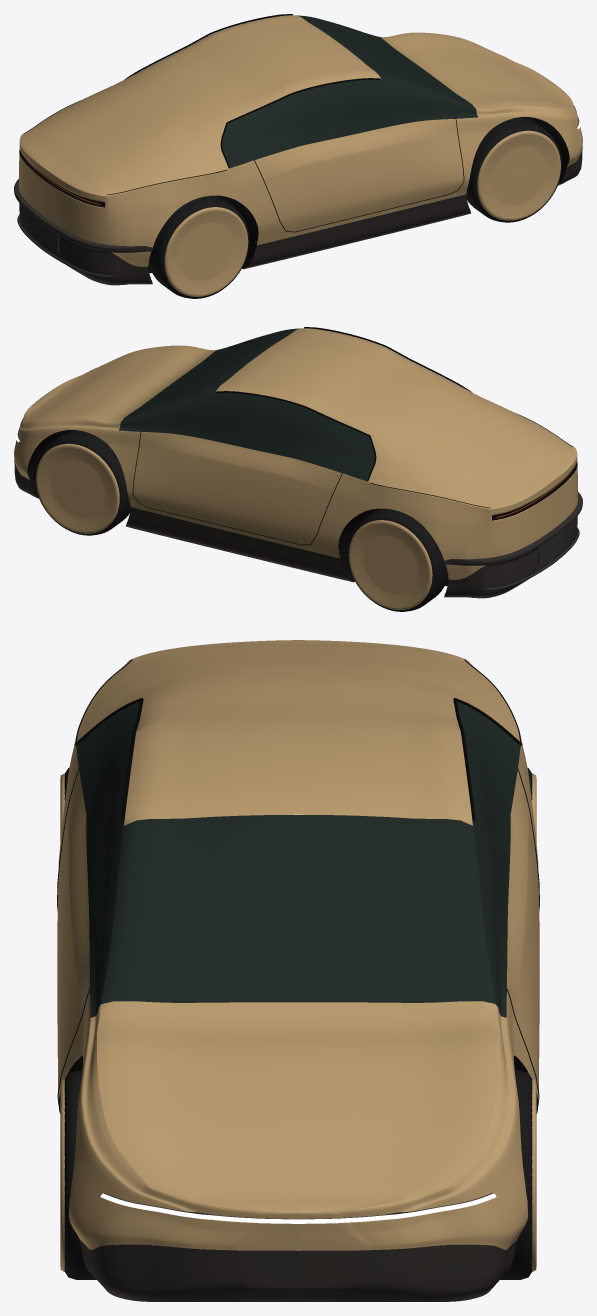
File: cybercab-generated.glb
3 renders of one model, top to bottom at view 1: azimuth 30°, elevation 25°; view 2: azimuth 150°, elevation 25°; view 3: azimuth 270°, elevation 25°, orthographic. The views are drawn at different scales.
Parts seen in each view (by area): view 1: body, side-glass, rim-face, glass-seal; view 2: body, side-glass, rim-face, glass-seal; view 3: body, side-glass, glass-seal, rim-face, object 4.
Part boxes in pixels (x1,y1,x2,y2): body: (19,15,582,266); side-glass: (14,15,582,285); rim-face: (164,130,560,296); glass-seal: (17,14,579,298); body: (14,328,577,579); side-glass: (14,328,582,598); rim-face: (36,443,432,609); glass-seal: (17,327,579,611); body: (57,640,539,1250); side-glass: (58,701,538,1301); glass-seal: (57,659,539,1279); rim-face: (60,773,536,1271); object 4: (100,1193,496,1223).
Bounding box in the file's own units: 4.36 × 1.42 × 1.77.
Materials: 7 (7 with a texture image).
